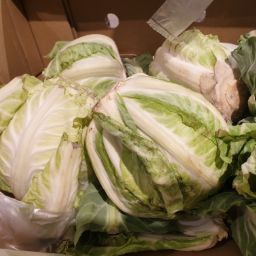Cauliflower: (9, 29, 256, 256), (67, 36, 224, 226), (2, 74, 165, 250)
